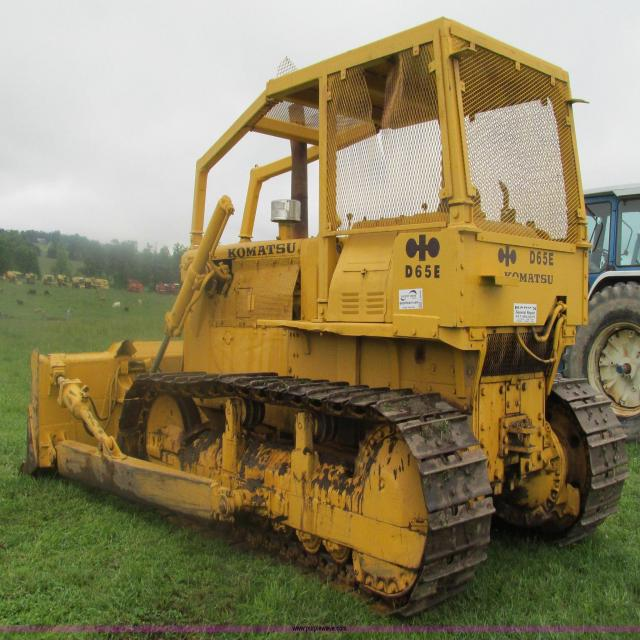Bulldozer: (24, 15, 618, 591)
